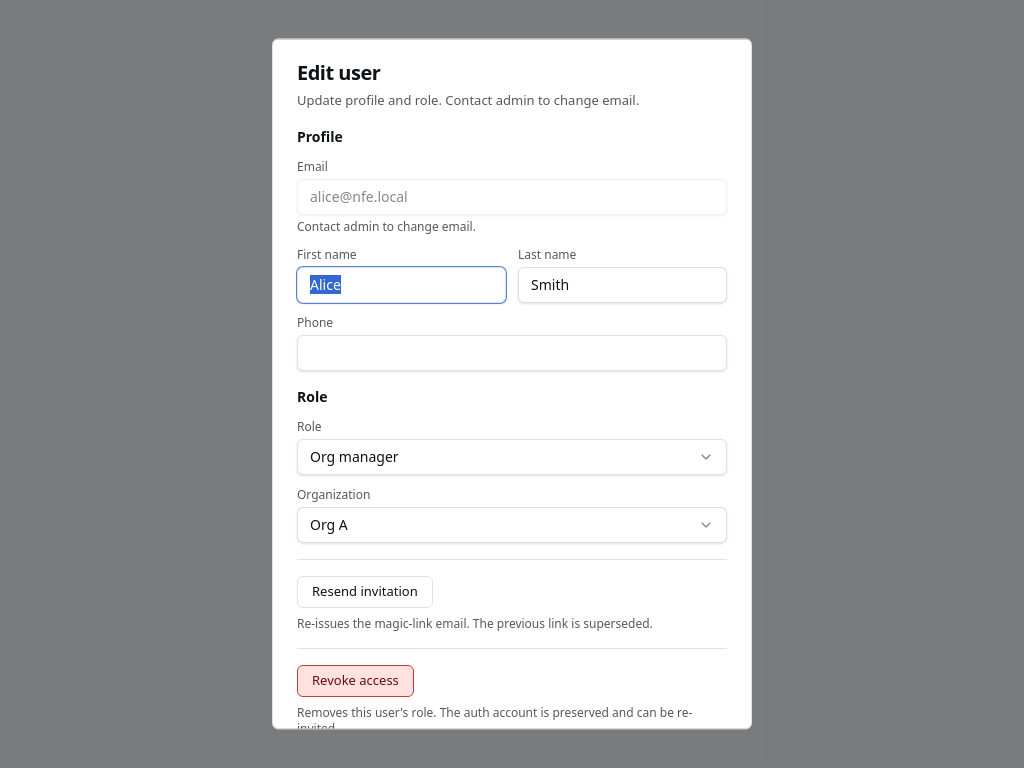
EditUserDialog — resend invitation (UX5b / #184) › surfaces a rate-limit banner on 429
Click the button "Resend invitation" at (365, 592), box [297,576,433,608]
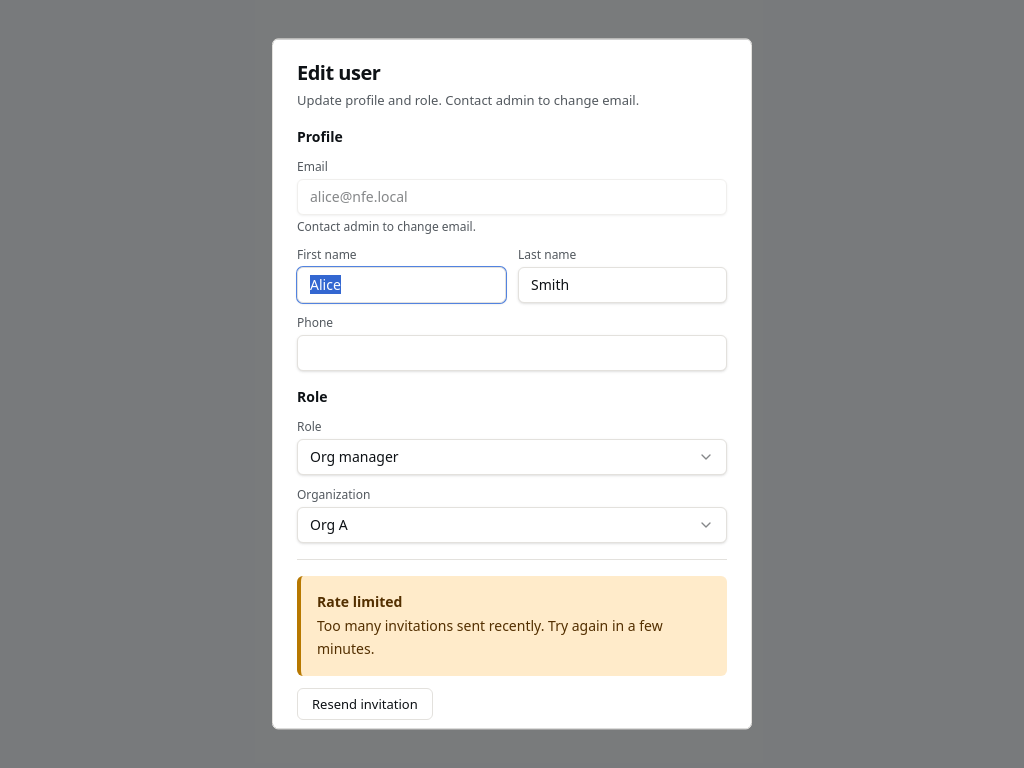
Expected: the heading "Rate limited" is shown, [317,592,402,611]
Expected: the text "Try again in a few minutes" is shown, [317,616,663,658]
